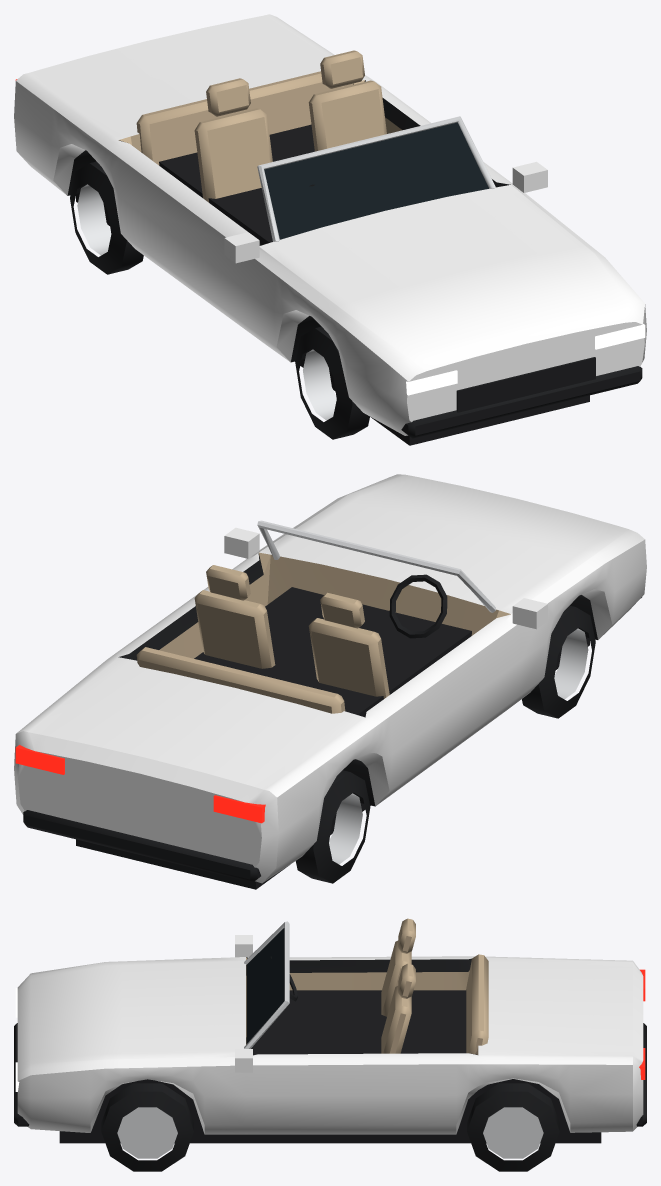
The model's file is car_convertible.gltf.
3 views of the same model, one above another, from view 1: azimuth 30°, elevation 25°; view 2: azimuth 150°, elevation 25°; view 3: azimuth 270°, elevation 25° (orthographic). The views are drawn at different scales.
Visible parts, largest first — view 1: car_convertible_body; view 2: car_convertible_body; view 3: car_convertible_body.
Boxes of the visible parts, <box> form: car_convertible_body: <box>14,14,646,445</box>; car_convertible_body: <box>14,474,646,889</box>; car_convertible_body: <box>14,918,646,1171</box>.
Bounding box in the file's own units: 2.08 × 1.38 × 4.5.
